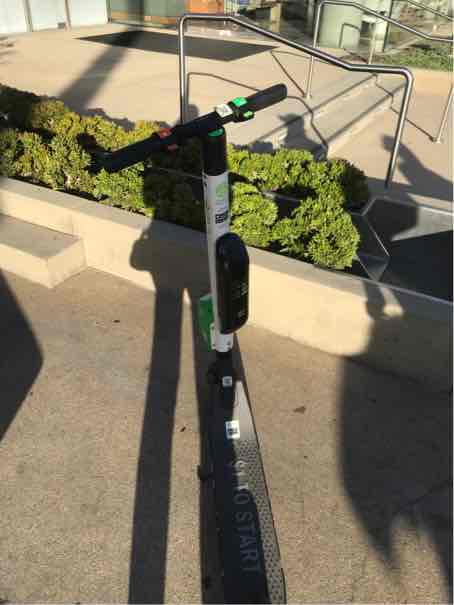scooter: (44, 88, 356, 605)
